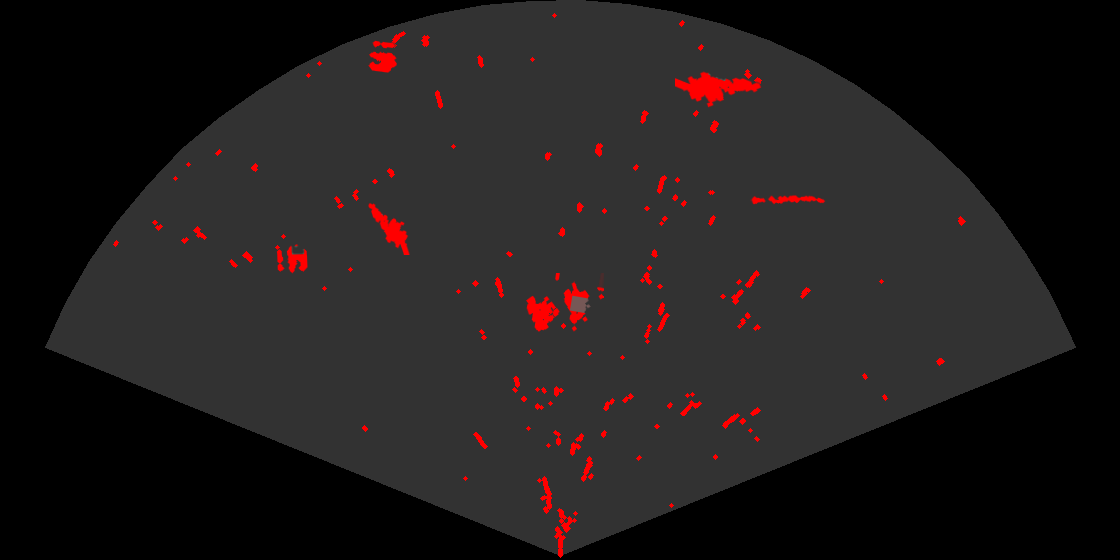ball: (275, 243, 309, 275), (367, 39, 398, 74)
cage: (525, 273, 604, 333)
chain: (750, 194, 826, 206)
frogman: (675, 70, 763, 109), (367, 201, 411, 255)
